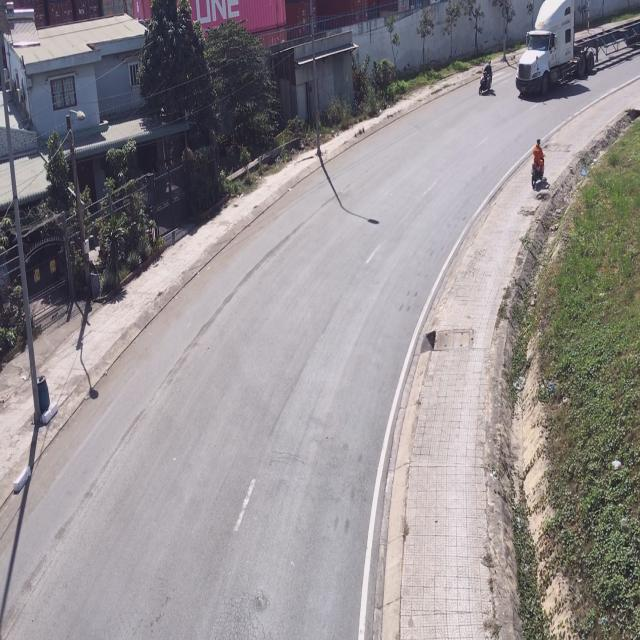motorbike: (531, 138, 546, 191), (480, 61, 496, 98)
truck: (514, 0, 639, 100)
